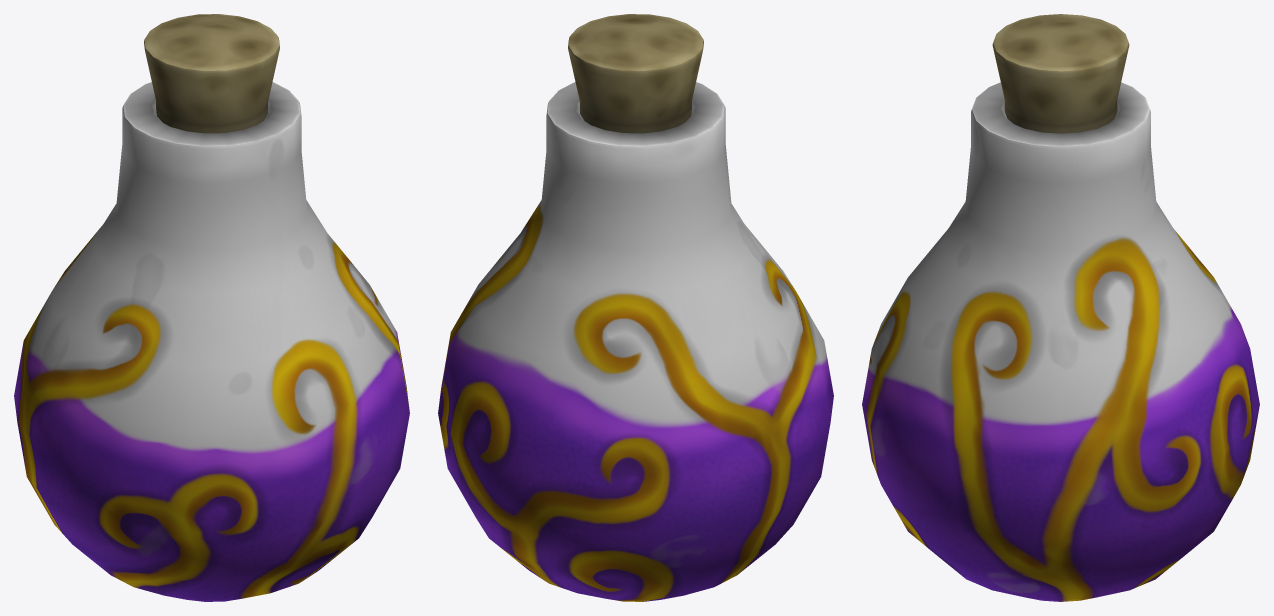
Rendered from Potion.FBX.
3 renders of one model, left to right at view 1: azimuth 30°, elevation 25°; view 2: azimuth 150°, elevation 25°; view 3: azimuth 270°, elevation 25°, orthographic.
Parts seen in each view (by area): view 1: Potion; view 2: Potion; view 3: Potion.
Boxes of the visible parts, x1,y1,x2,y2 form: Potion: [14, 14, 409, 601]; Potion: [438, 14, 833, 601]; Potion: [862, 14, 1259, 601].
Size of the model in its own units: 19.35 by 29.7 by 19.35.
1 material, 1 textured.
